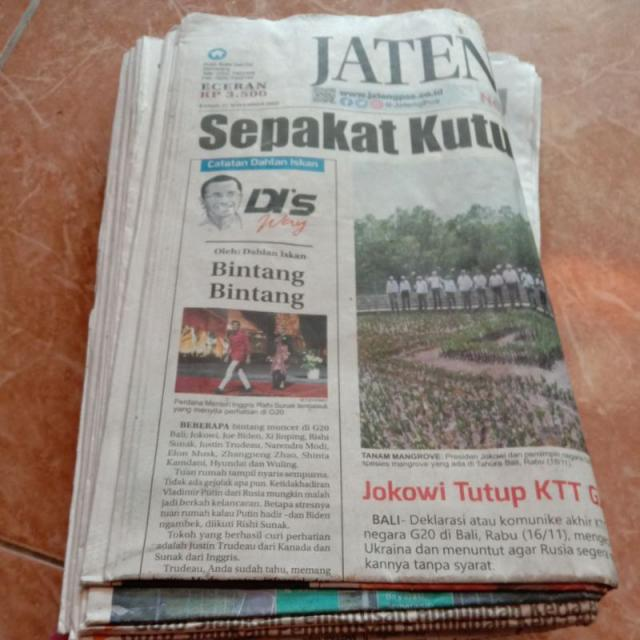Koran: (57, 10, 619, 638)
